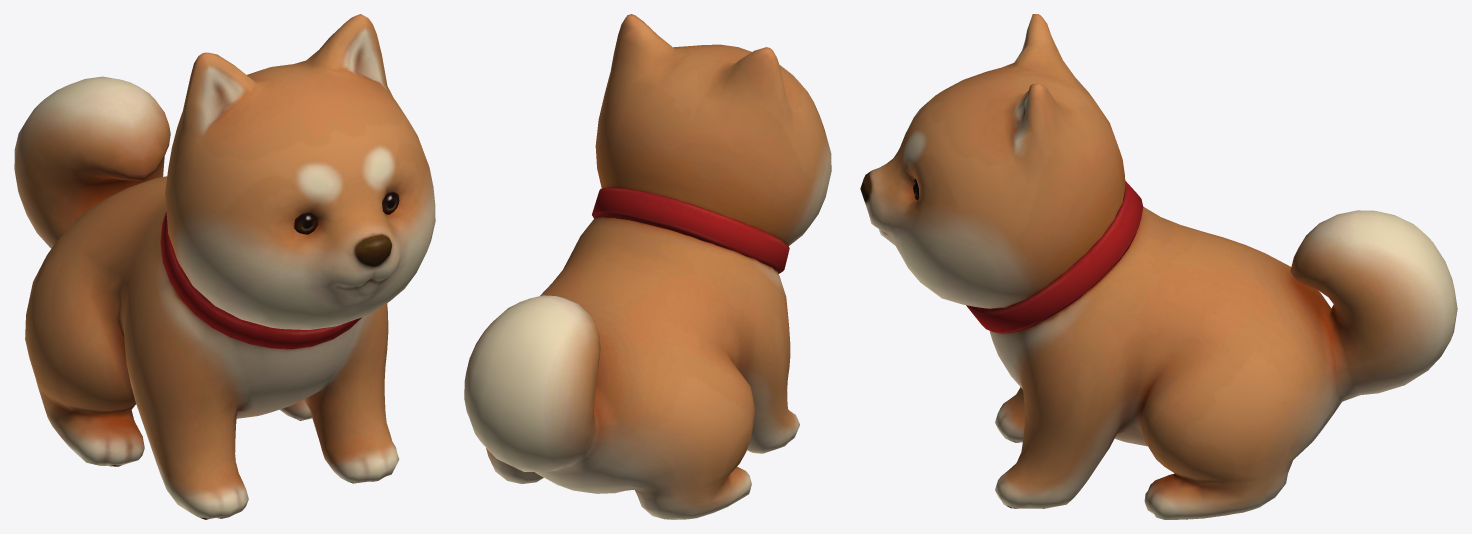
File: Shiba.glb
3 views of the same model, side by side, from view 1: azimuth 30°, elevation 25°; view 2: azimuth 150°, elevation 25°; view 3: azimuth 270°, elevation 25° (orthographic). The views are drawn at different scales.
Visible parts, largest first — view 1: Box002, Group18985, Shiba; view 2: Box002, Group18985; view 3: Box002, Group18985.
Part boxes in pixels (x1,y1,x2,y2): Box002: (14,14,435,519); Group18985: (160,211,362,349); Shiba: (294,192,399,234); Box002: (464,14,831,519); Group18985: (592,188,789,273); Box002: (860,14,1457,519); Group18985: (966,181,1143,333).
Size of the model in its own units: 0.00921 by 0.0138 by 0.0177.
1 material, 1 textured.
